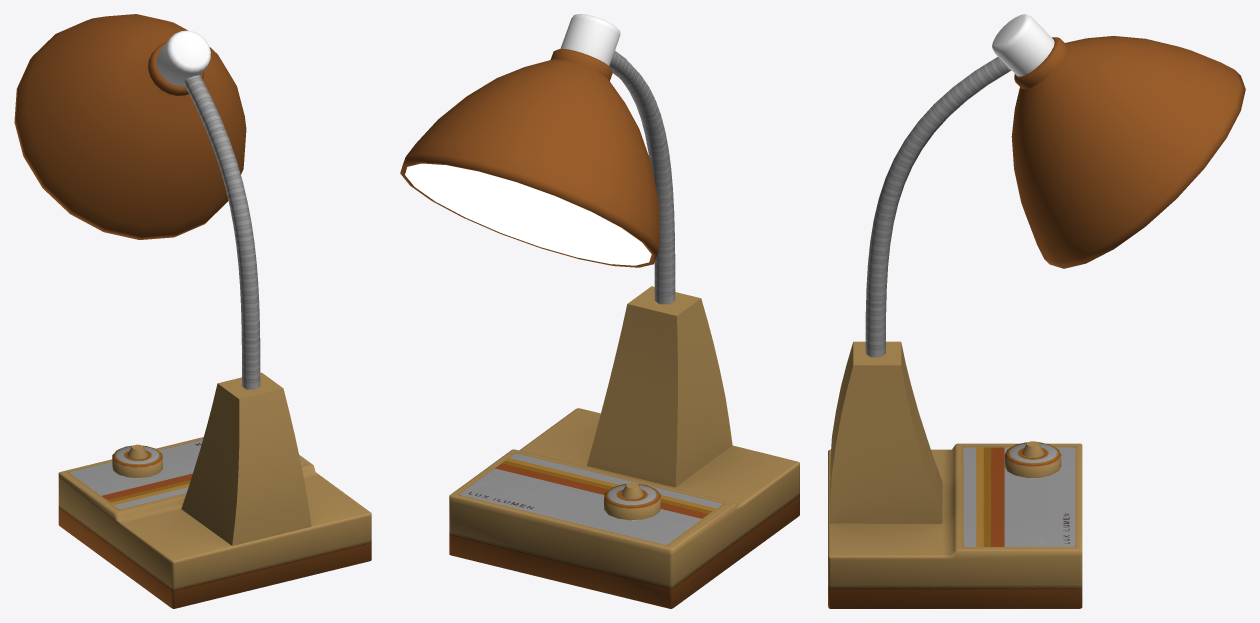
File: lamp_01.fbx
3 renders of one model, left to right at view 1: azimuth 30°, elevation 25°; view 2: azimuth 150°, elevation 25°; view 3: azimuth 270°, elevation 25°, orthographic. The views are drawn at different scales.
Visible parts, largest first — view 1: lamp_01.001; view 2: lamp_01.001; view 3: lamp_01.001.
Part boxes in pixels (x1,y1,x2,y2): lamp_01.001: (14, 14, 371, 608); lamp_01.001: (400, 14, 799, 608); lamp_01.001: (828, 14, 1245, 608).
Bounding box in the file's own units: 23.81 × 52.64 × 37.01.
